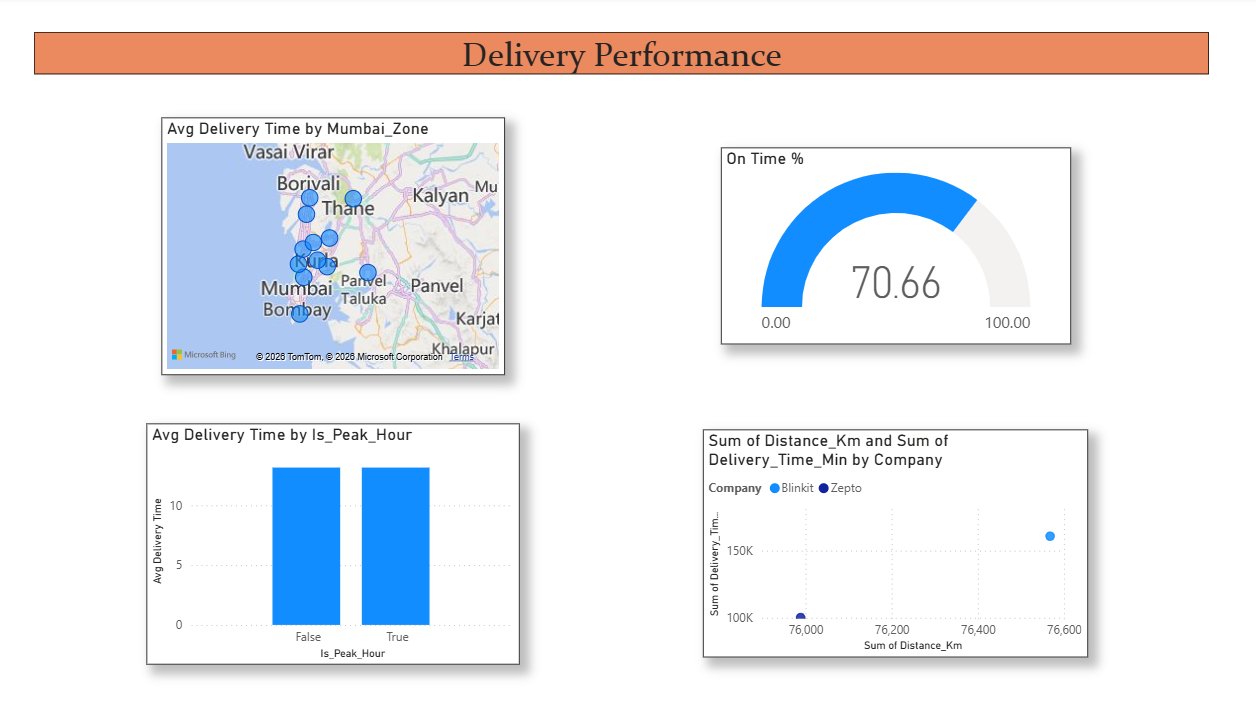

The dashboard page shown, as its layout file describes it:
{"tool":"powerbi","page":{"name":"Page 2","canvas":[1280,720],"ordinal":1},"visuals":[{"type":"map","fields":{"Category":["mumbai_qcommerce_enriched.Mumbai_Zone"],"Size":["mumbai_qcommerce_enriched.Avg Delivery Time"]},"box":[165,123.3,346.7,260],"z":0},{"type":"clusteredColumnChart","fields":{"Category":["mumbai_qcommerce_enriched.Is_Peak_Hour"],"Y":["mumbai_qcommerce_enriched.Avg Delivery Time"]},"box":[150,431.7,376.7,243.3],"z":1000},{"type":"gauge","fields":{"Y":["mumbai_qcommerce_enriched.On Time %"]},"box":[730,153.3,353.3,198.3],"z":2000},{"type":"scatterChart","fields":{"X":["mumbai_qcommerce_enriched.Distance_Km"],"Y":["Sum(mumbai_qcommerce_enriched.Delivery_Time_Min)"],"Series":["mumbai_qcommerce_enriched.Company"]},"box":[711.7,438.3,388.3,230],"z":3000},{"type":"textbox","title":"Delivery Performance","box":[35.7,35.7,1185.7,42.9],"z":4000}]}

Visuals, with their boxes in screenshot pixels (x1, y1, x2, y2), scaled from the page's 1280x720 canvas onto the 1256x708 screenshot:
map - mumbai_qcommerce_enriched.Mumbai_Zone x mumbai_qcommerce_enriched.Avg Delivery Time: [162, 121, 502, 377]
clusteredColumnChart - mumbai_qcommerce_enriched.Is_Peak_Hour x mumbai_qcommerce_enriched.Avg Delivery Time: [147, 425, 517, 664]
gauge - mumbai_qcommerce_enriched.On Time %: [716, 151, 1063, 346]
scatterChart - mumbai_qcommerce_enriched.Distance_Km x Sum(mumbai_qcommerce_enriched.Delivery_Time_Min): [698, 431, 1079, 657]
"Delivery Performance" textbox: [35, 35, 1198, 77]
